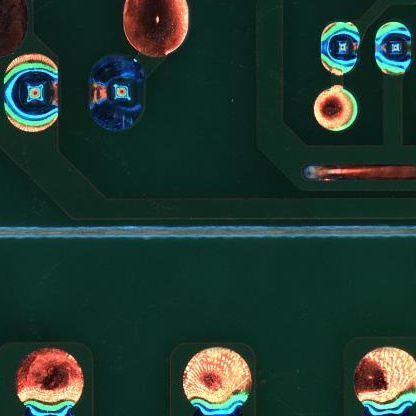spot: (1, 53, 62, 134), (89, 56, 144, 132), (319, 18, 359, 78), (375, 19, 414, 78)
